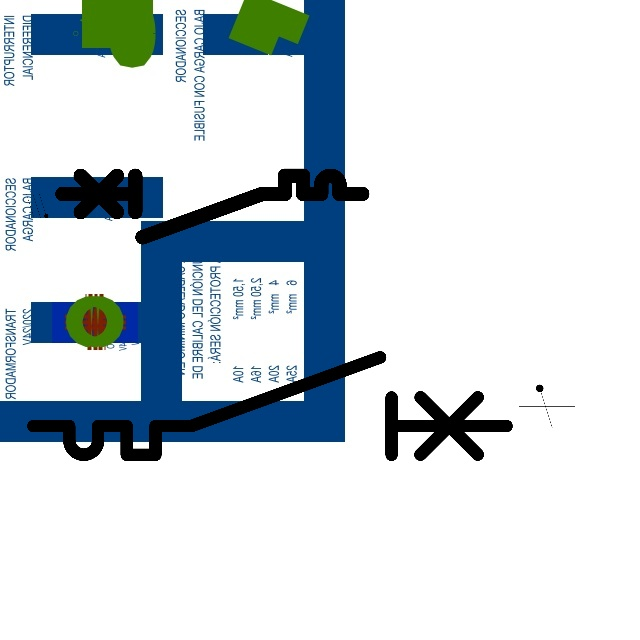interruptor_termomagnetico: (21, 345, 518, 467), (54, 168, 369, 245)
